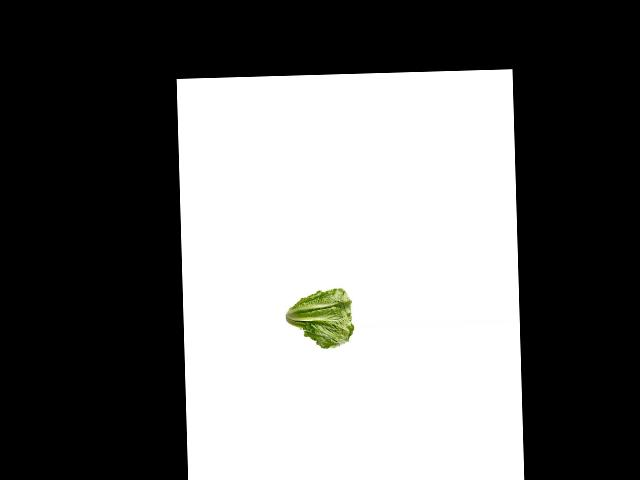lettuce: (281, 290, 355, 352)
